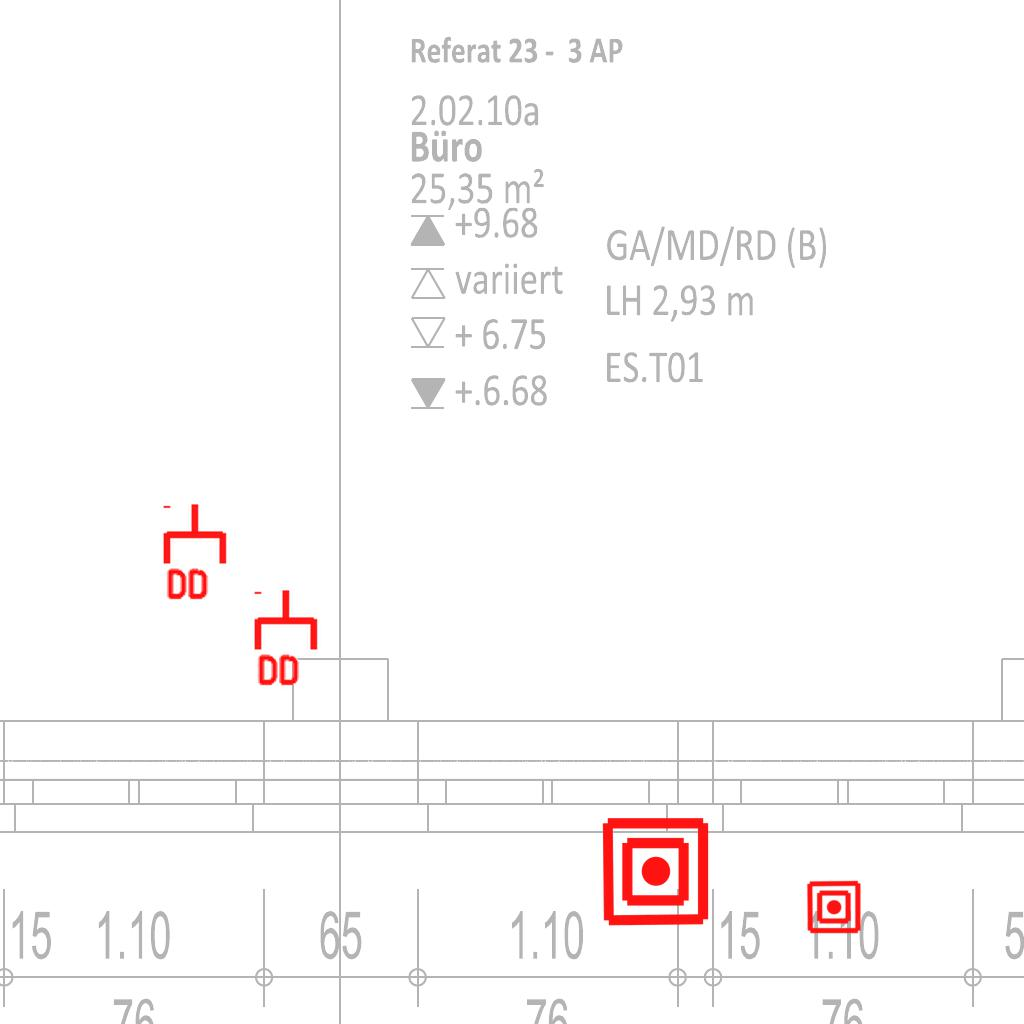Datenanschluss_zweifach: (162, 501, 231, 604), (253, 587, 322, 690)
NAM-Nichtautomatischer_Melder: (599, 815, 712, 928), (806, 879, 862, 935)
